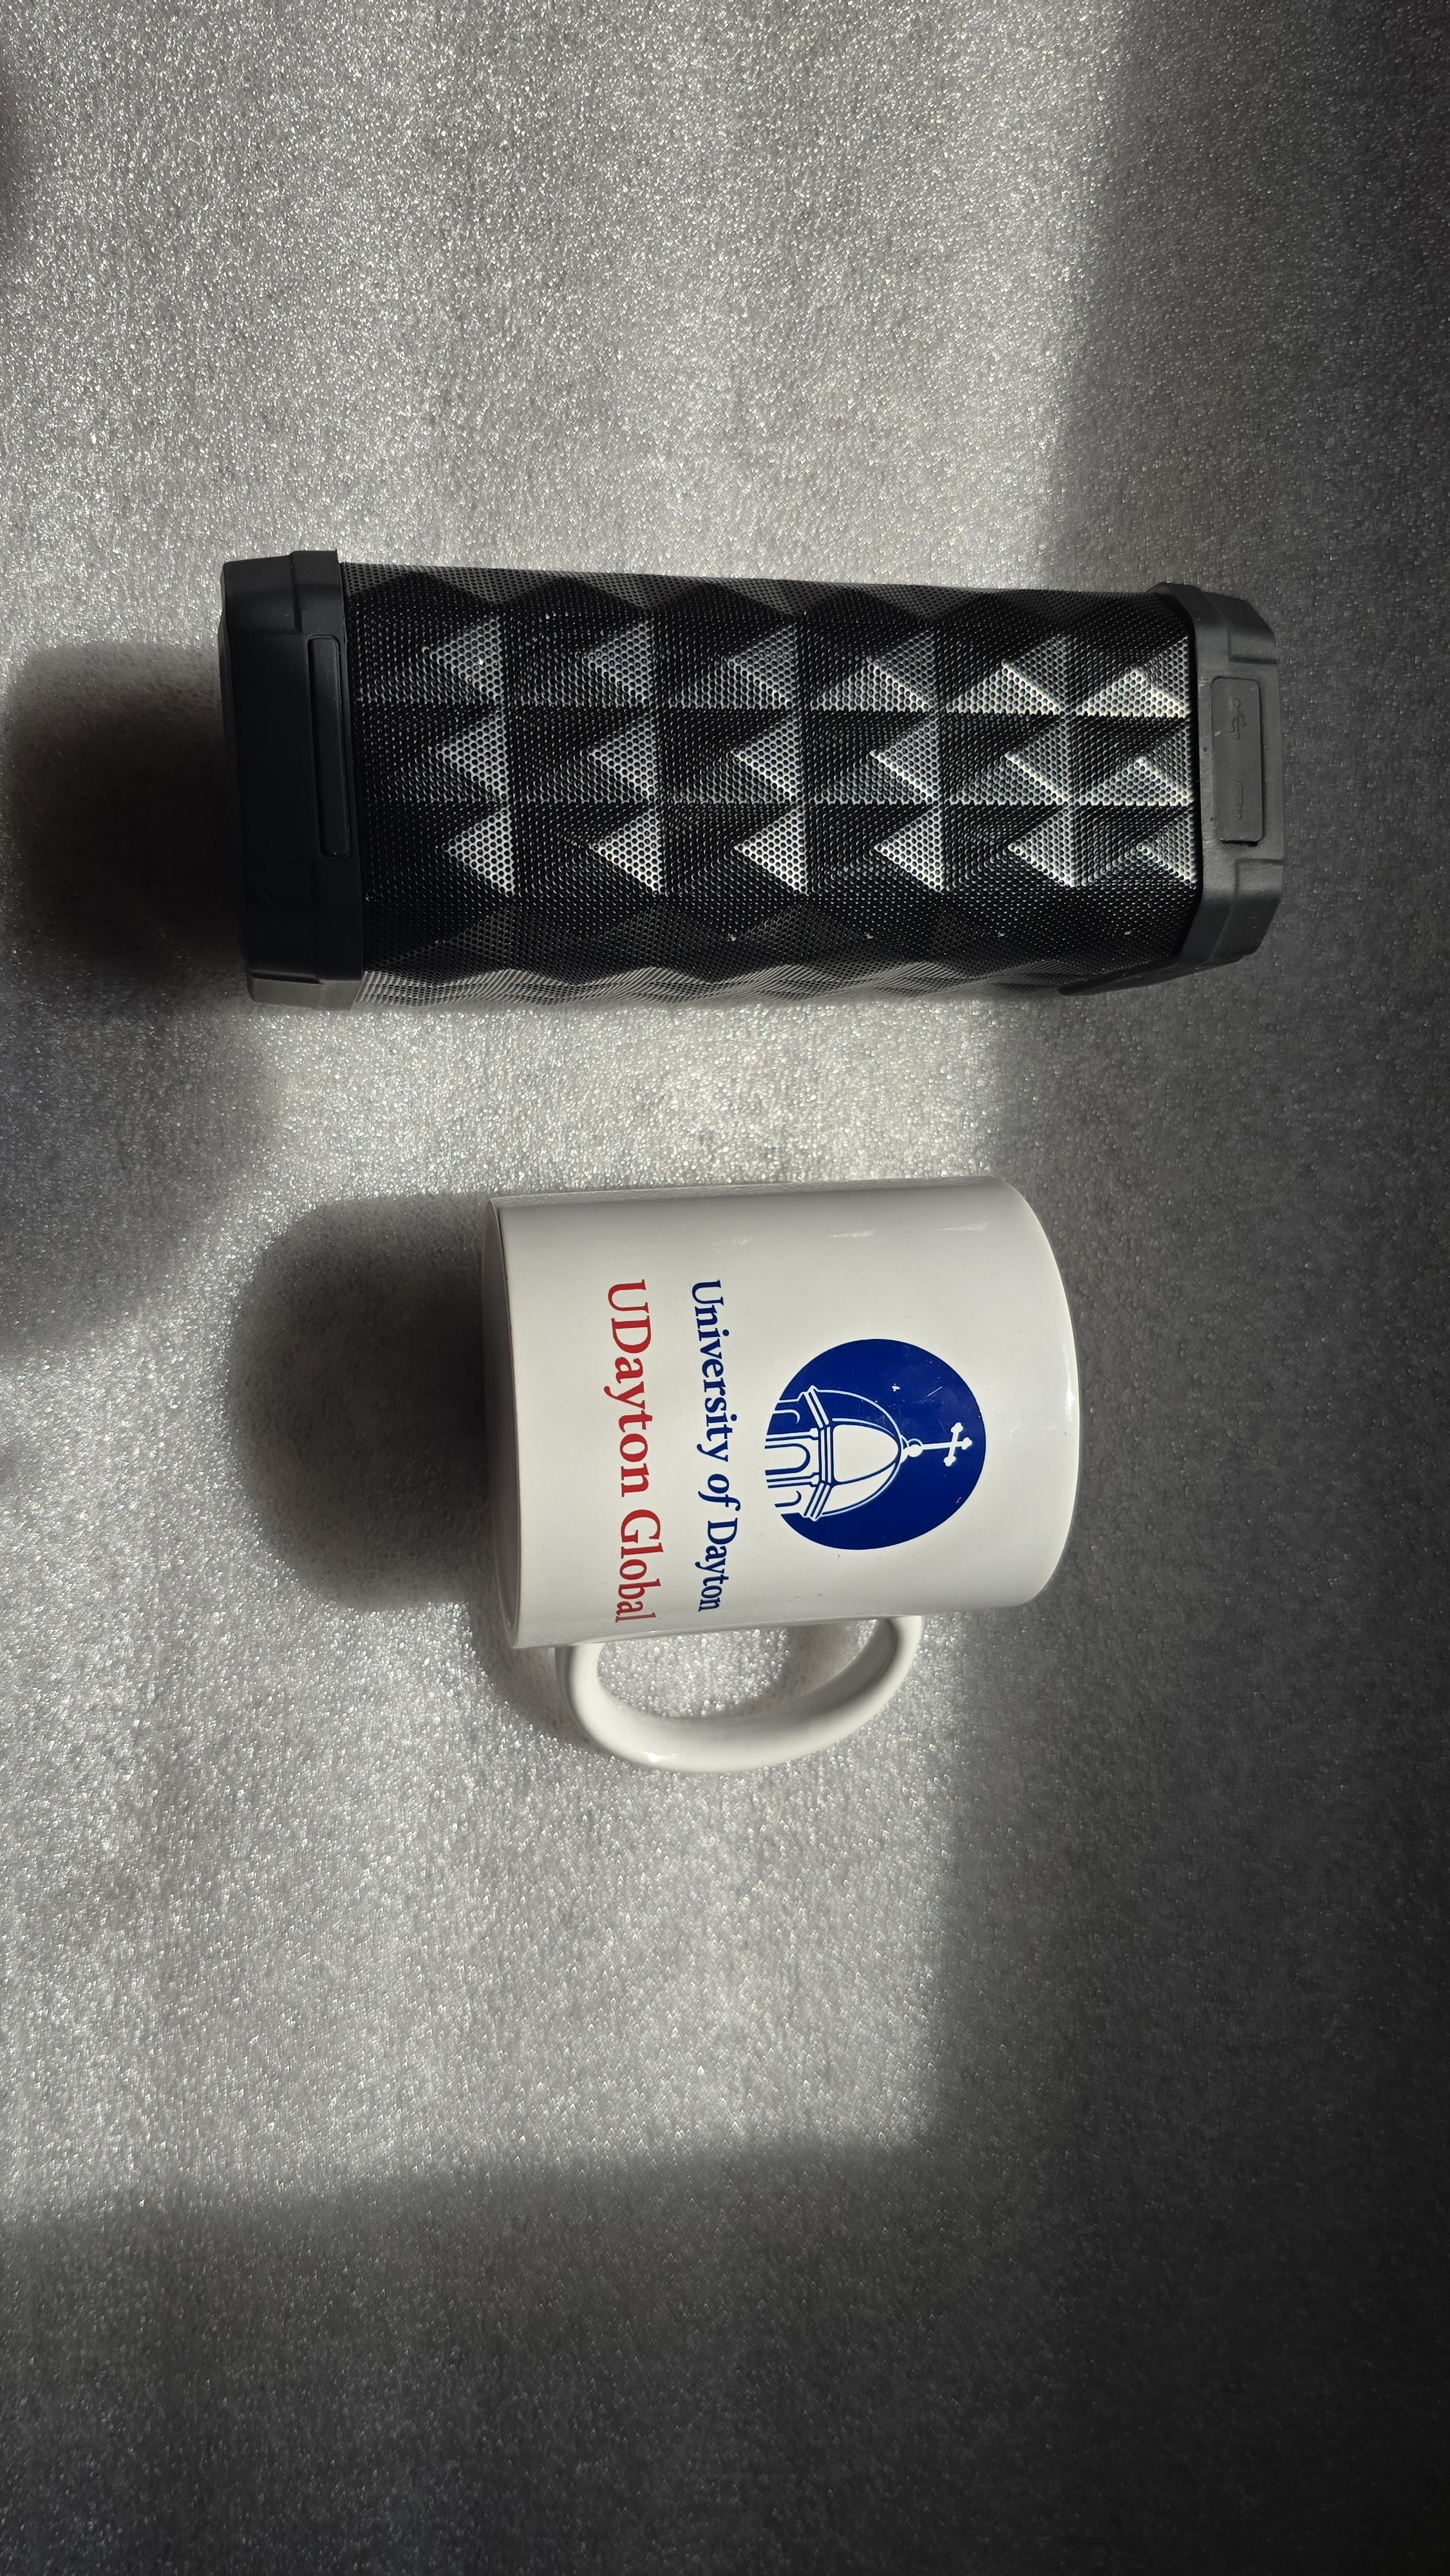mug: (463, 1169, 1146, 1792)
